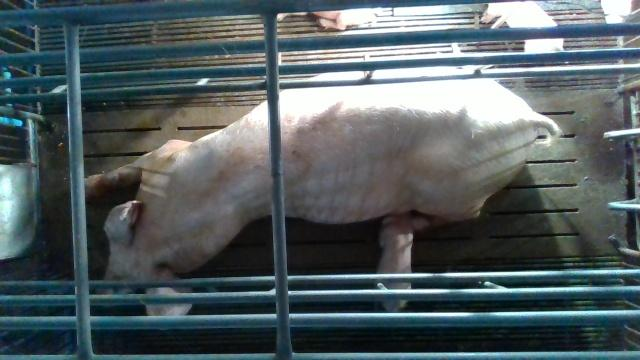piglet: (378, 214, 428, 313), (481, 0, 564, 54)
sow-sit: (86, 66, 559, 332)
